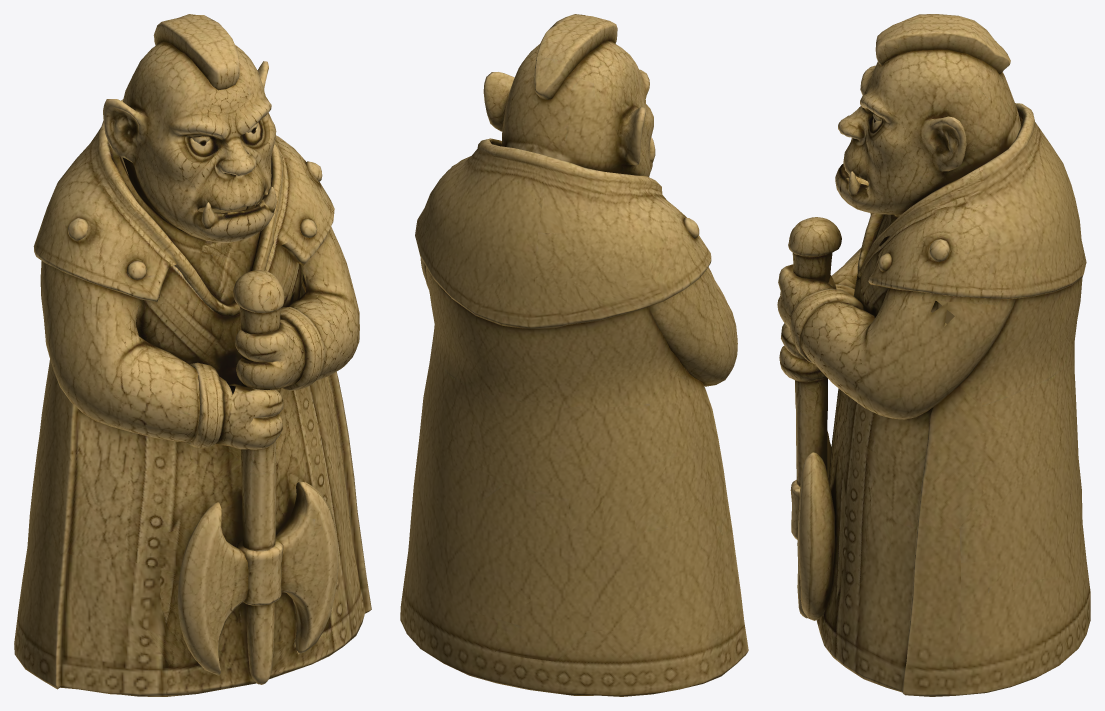
The model's file is orc_chief.glb.
3 renders of one model, left to right at view 1: azimuth 30°, elevation 25°; view 2: azimuth 150°, elevation 25°; view 3: azimuth 270°, elevation 25°, orthographic. The views are drawn at different scales.
Parts seen in each view (by area): view 1: mesh_node; view 2: mesh_node; view 3: mesh_node.
Boxes of the visible parts, x1=… form: mesh_node: x1=14, y1=14, x2=371, y2=696; mesh_node: x1=400, y1=14, x2=748, y2=696; mesh_node: x1=777, y1=14, x2=1090, y2=696.
Bounding box in the file's own units: 0.5312 × 1 × 0.459.
Materials: 1 (1 with a texture image).
